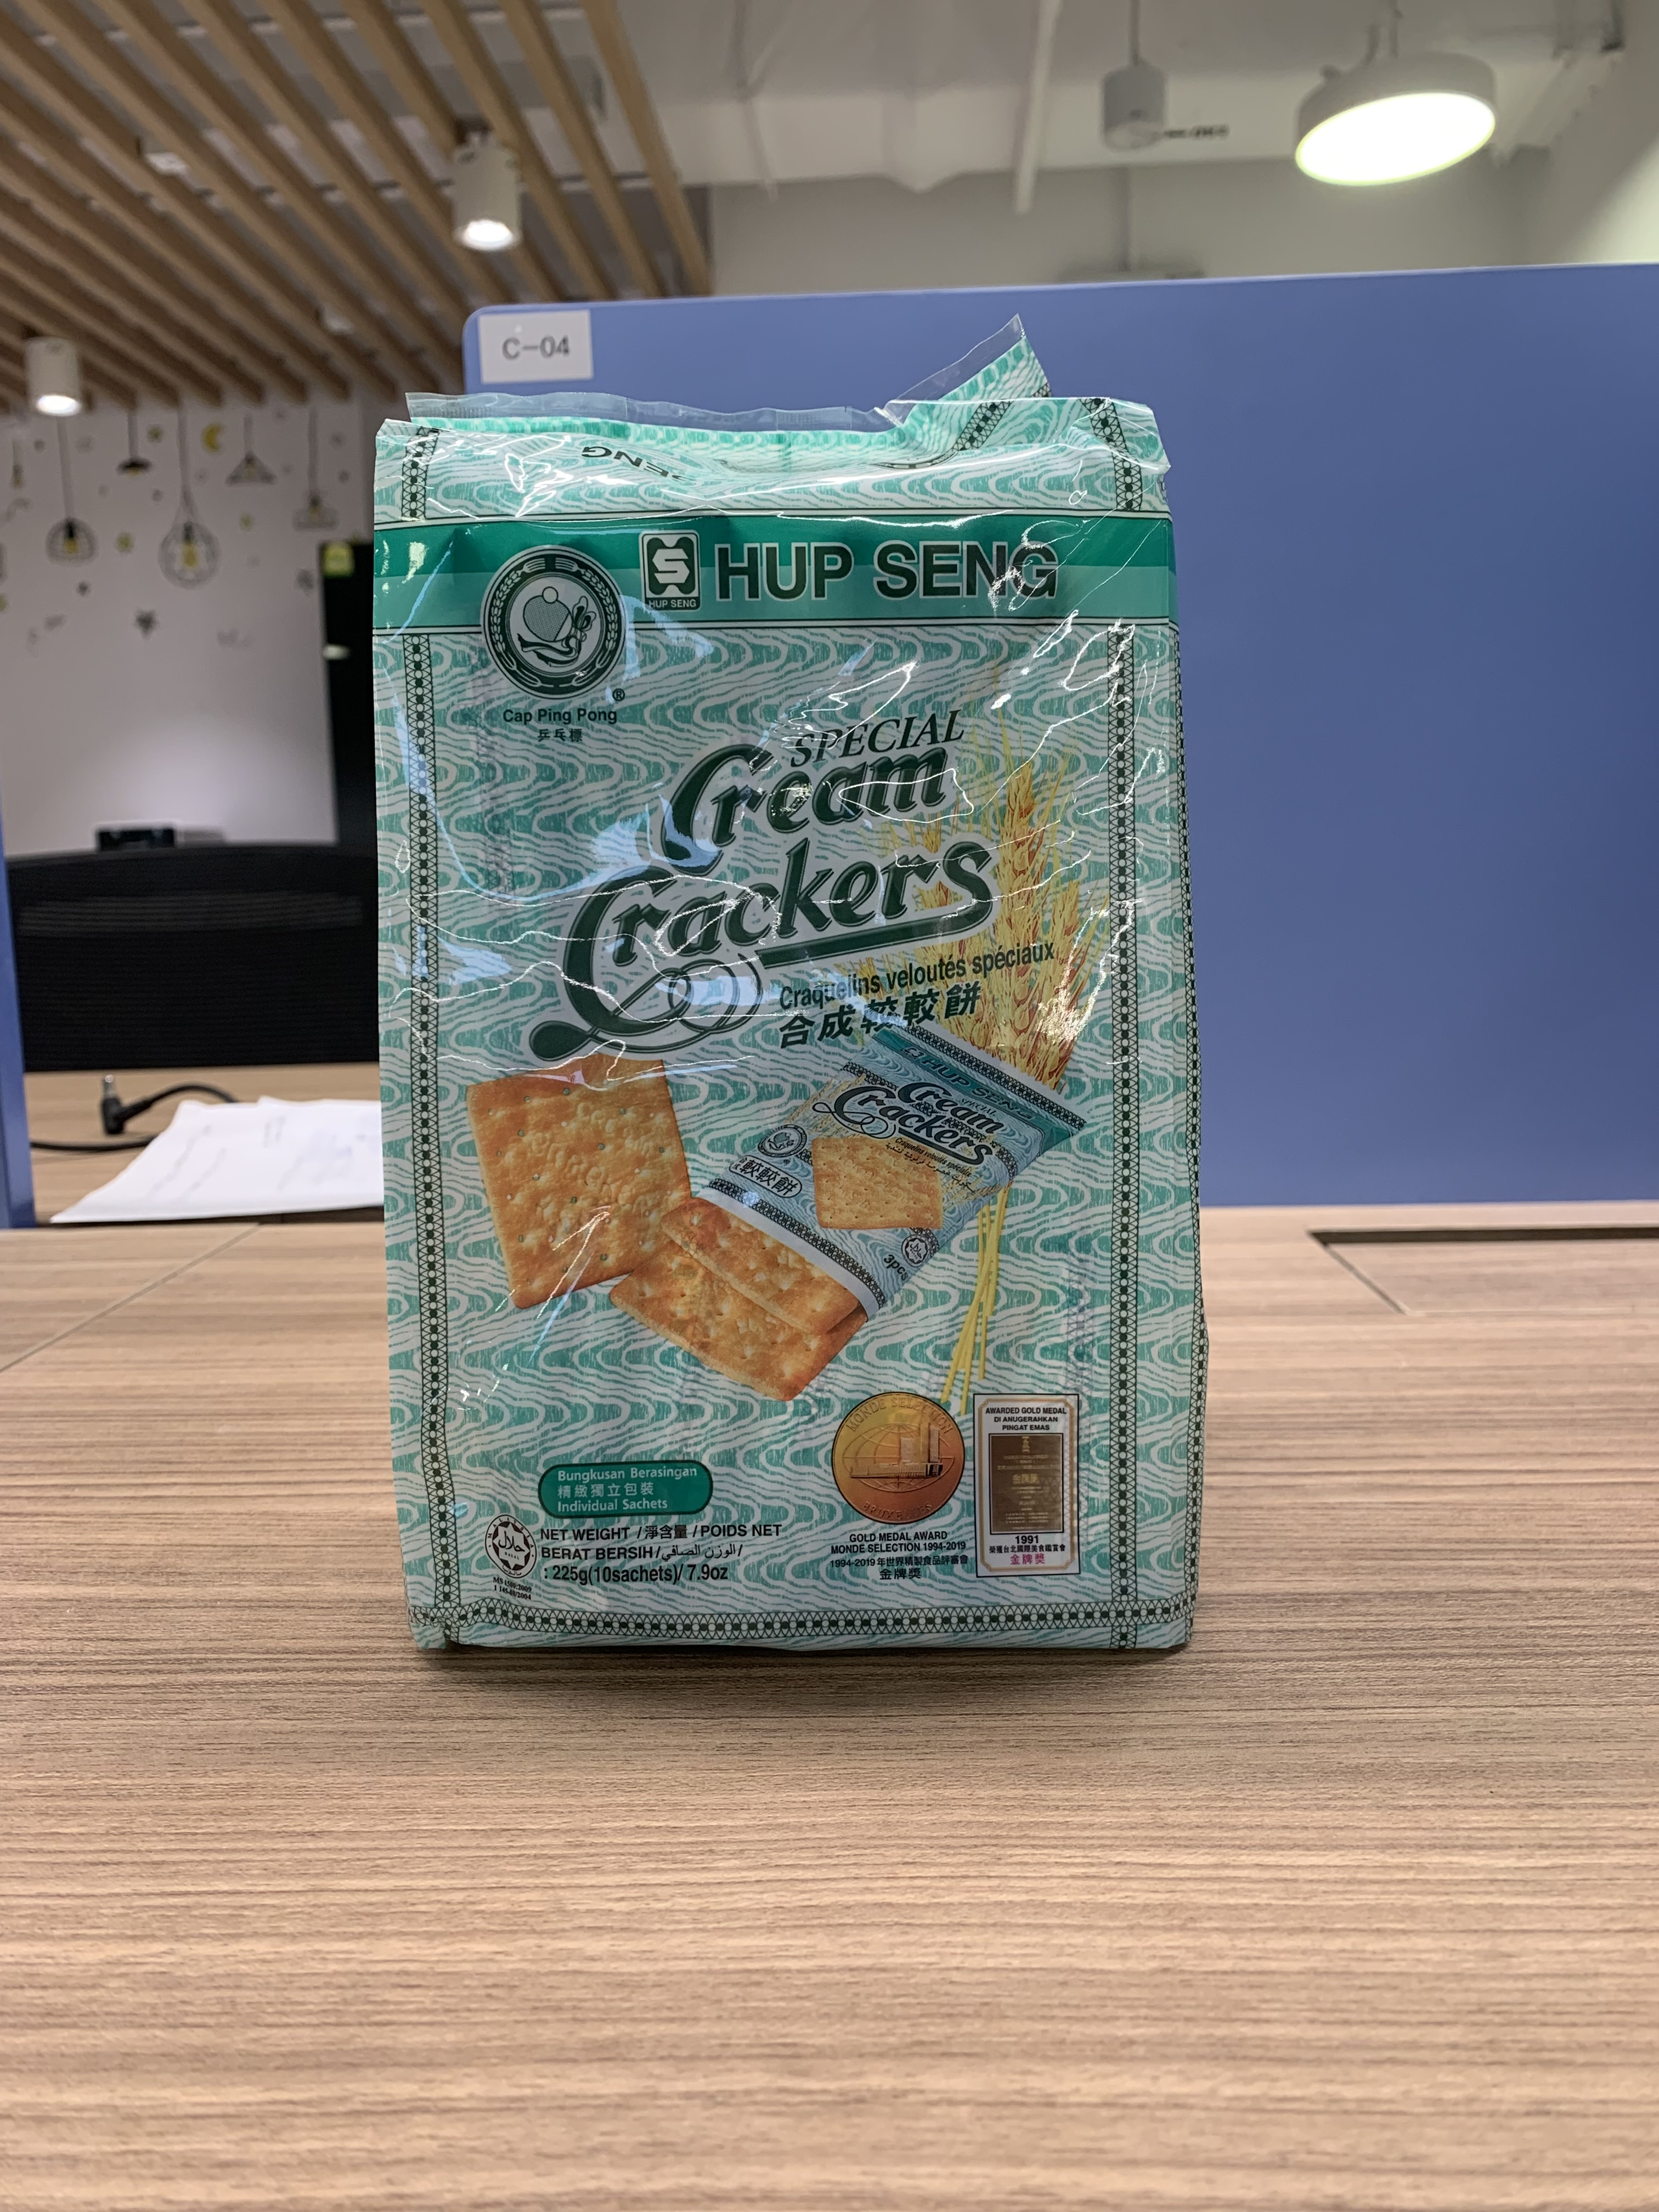crackers_200g-299g: (396, 430, 1178, 1637)
